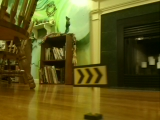right: (72, 65, 109, 85)
